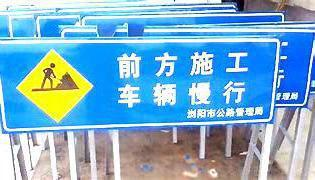sign: (1, 37, 277, 132)
